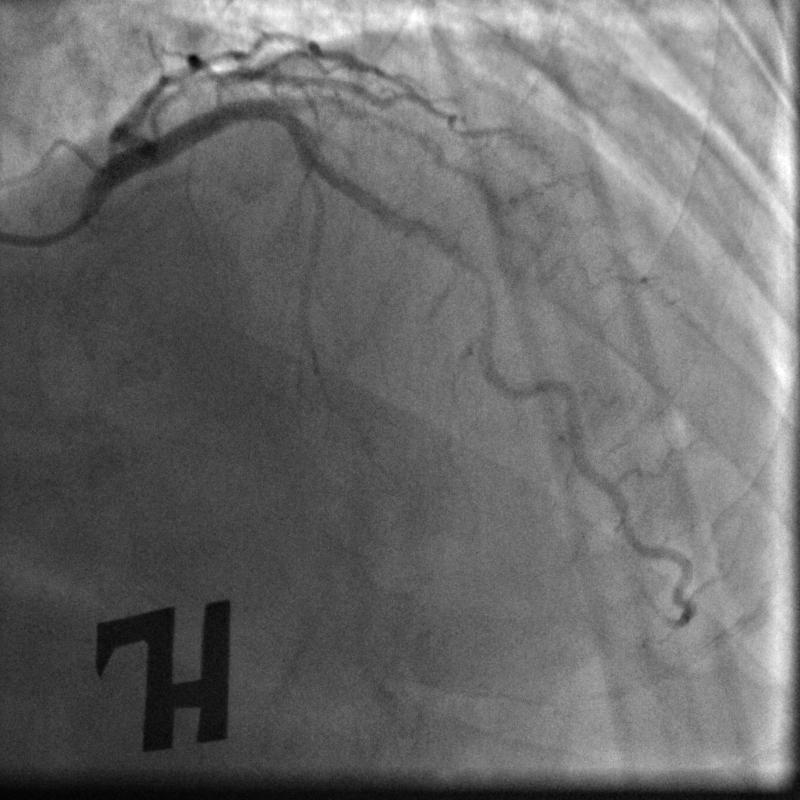Stenosis: (461, 250, 502, 340)
